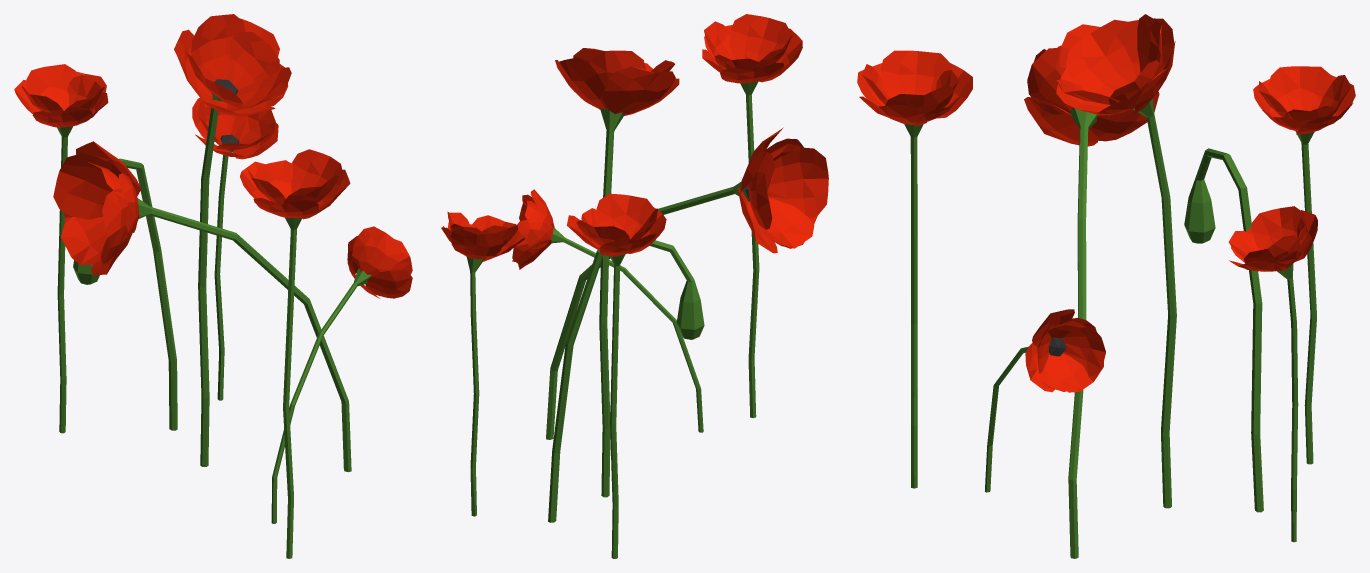
The model's file is SM_Mak_001.fbx.
3 views of the same model, side by side, from view 1: azimuth 30°, elevation 25°; view 2: azimuth 150°, elevation 25°; view 3: azimuth 270°, elevation 25° (orthographic). The views are drawn at different scales.
Visible parts, largest first — view 1: Mak; view 2: Mak; view 3: Mak.
Boxes of the visible parts, x1,y1,x2,y2 form: Mak: (14, 14, 412, 558); Mak: (441, 14, 828, 558); Mak: (857, 14, 1355, 558).
Size of the model in its own units: 21.99 by 30 by 27.97.
